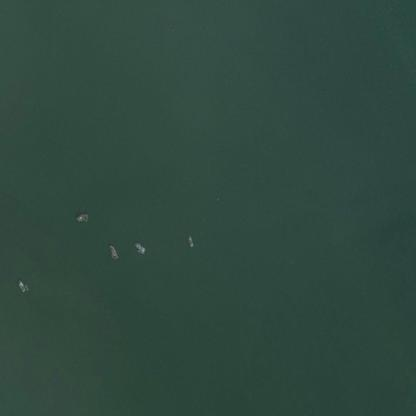ship: (180, 228, 202, 252), (12, 274, 33, 298), (70, 207, 92, 227), (129, 238, 151, 258), (102, 240, 121, 262)
